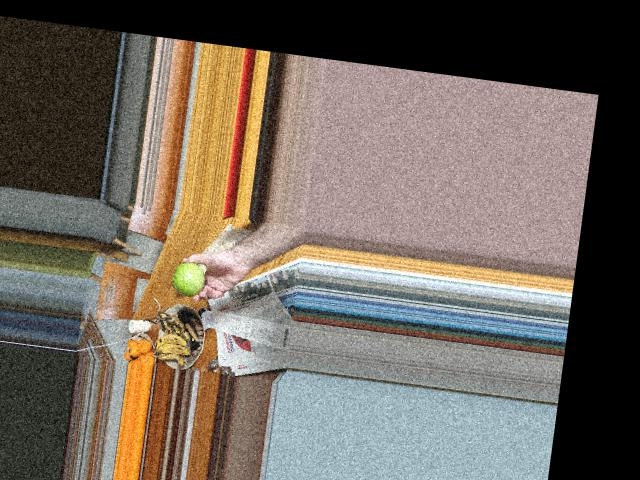apple: (168, 259, 207, 298)
